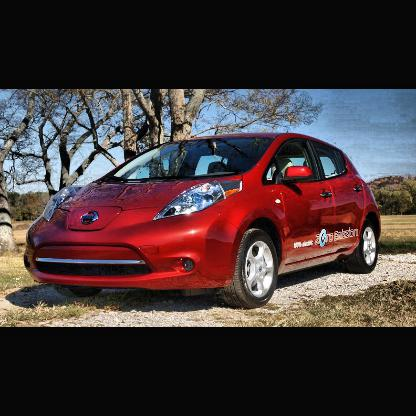Nissan Leaf Hatchback 2012: (23, 131, 382, 309)
